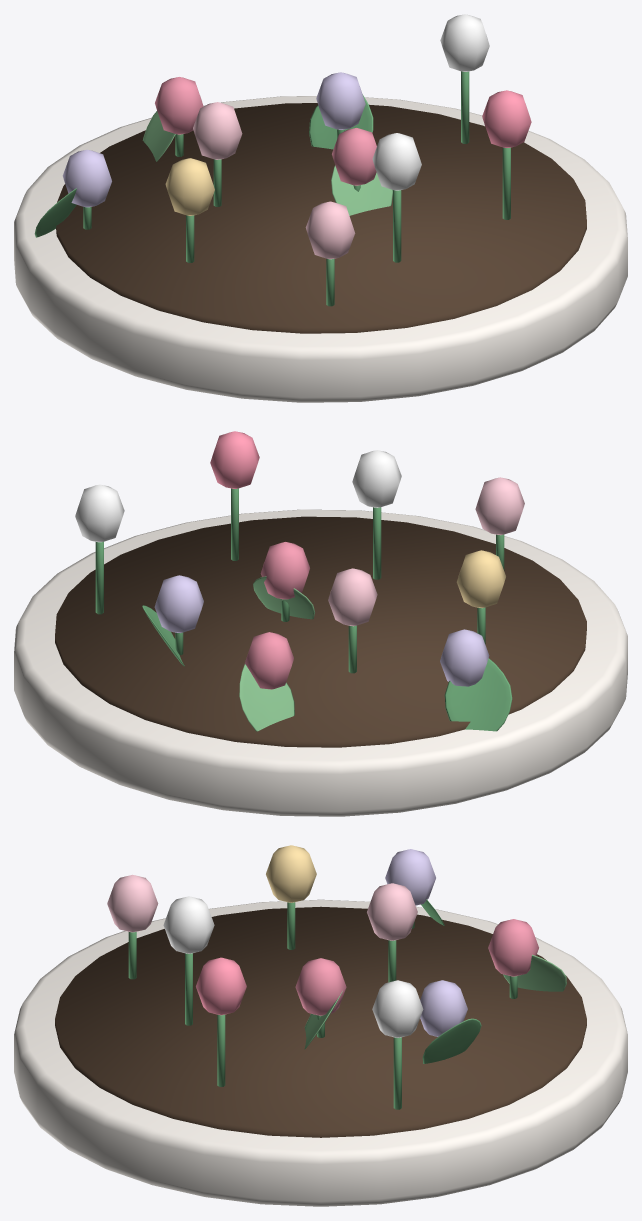
The model's file is plaza_bed.glb.
3 renders of one model, top to bottom at view 1: azimuth 30°, elevation 25°; view 2: azimuth 150°, elevation 25°; view 3: azimuth 270°, elevation 25°, orthographic.
Parts seen in each view (by area): view 1: Cylinder; view 2: Cylinder; view 3: Cylinder.
Boxes of the visible parts, bbox=[...] form: Cylinder: bbox=[14, 14, 627, 402]; Cylinder: bbox=[14, 431, 627, 816]; Cylinder: bbox=[14, 845, 627, 1206].
Bounding box in the file's own units: 1.8 × 0.6137 × 1.8.
